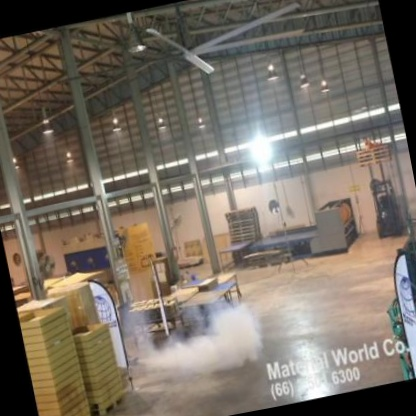smoke: (110, 263, 271, 392)
